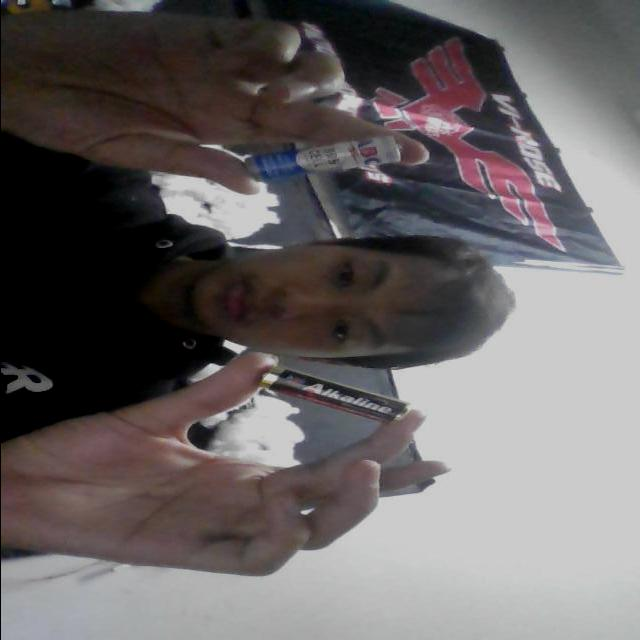AAA: (236, 360, 421, 432), (222, 132, 412, 186)
